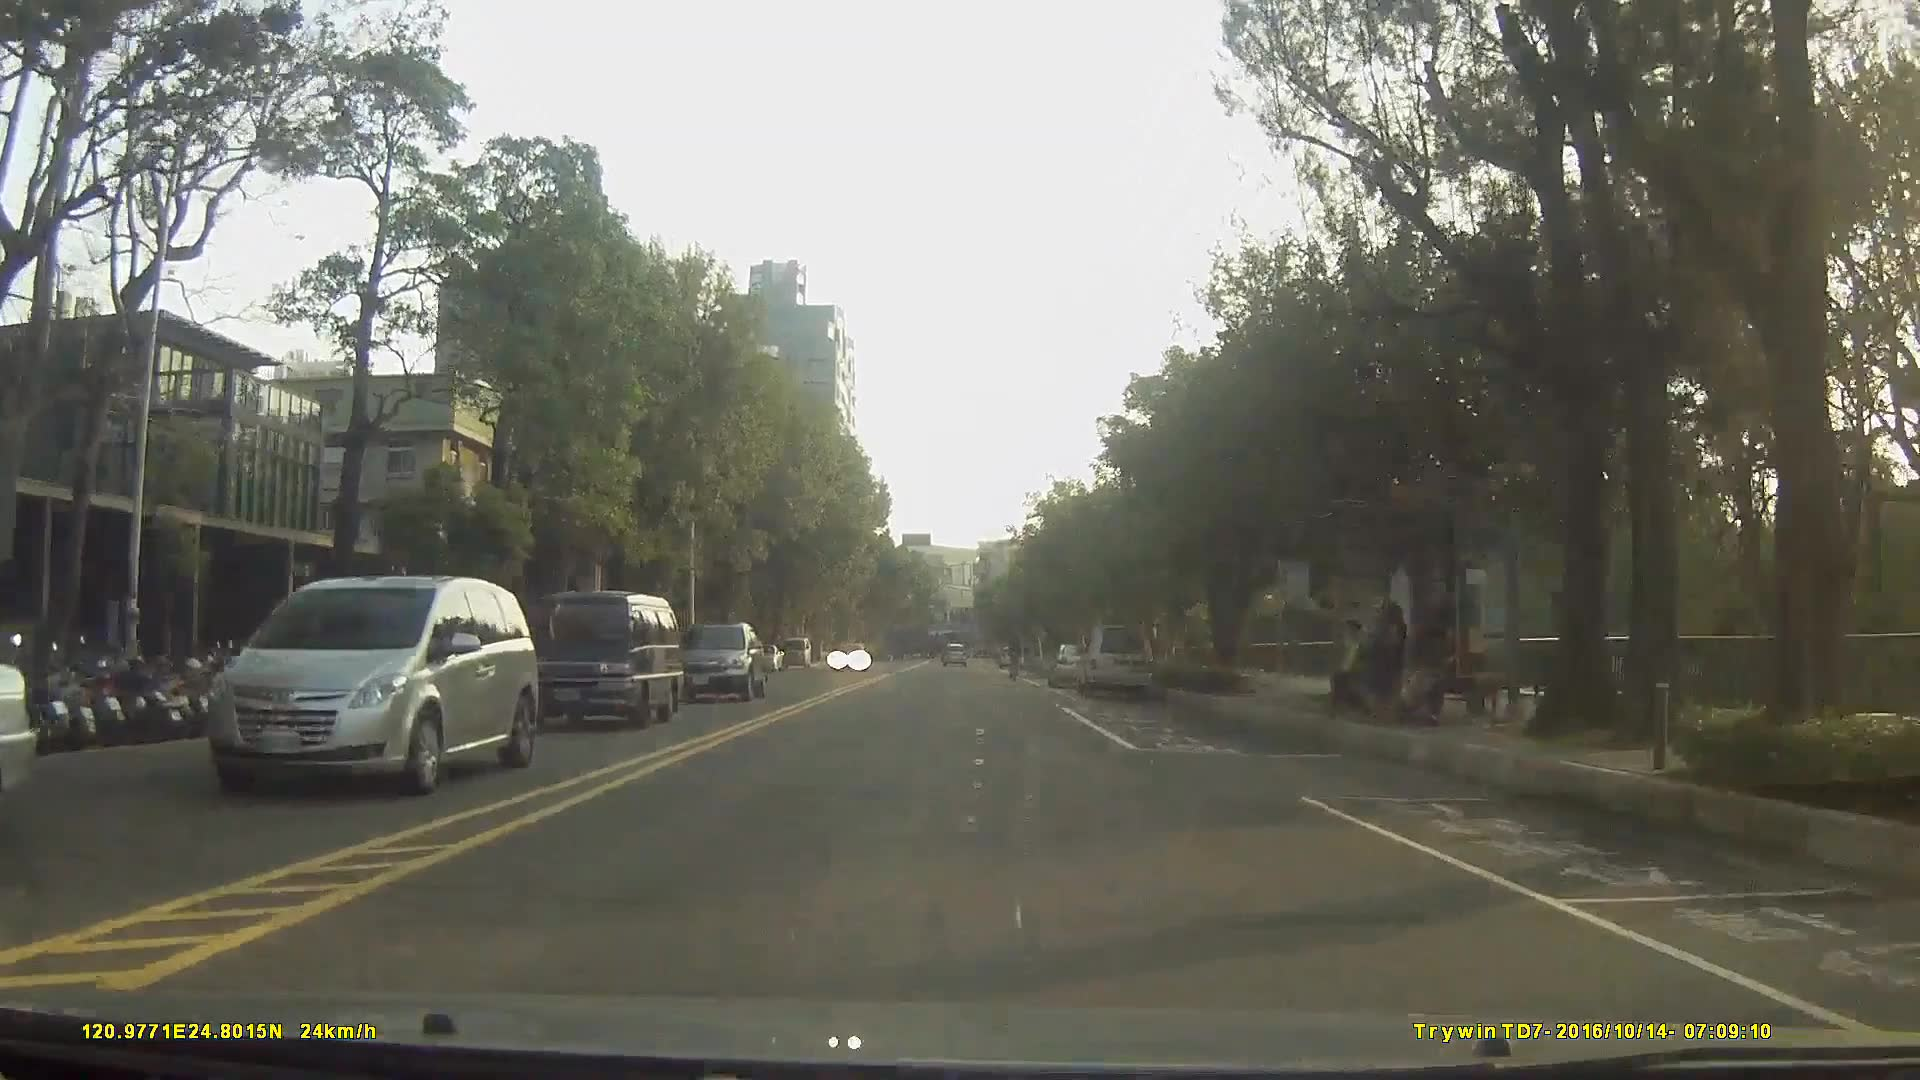pedestrian: (1361, 600, 1410, 725), (1399, 621, 1446, 728), (1328, 615, 1372, 712)
rider: (1006, 632, 1026, 686)
vehicle: (206, 572, 534, 800), (510, 587, 683, 732), (668, 621, 768, 700), (1072, 625, 1154, 700), (1048, 642, 1101, 687), (827, 643, 869, 675), (778, 638, 812, 672), (938, 638, 966, 666)
